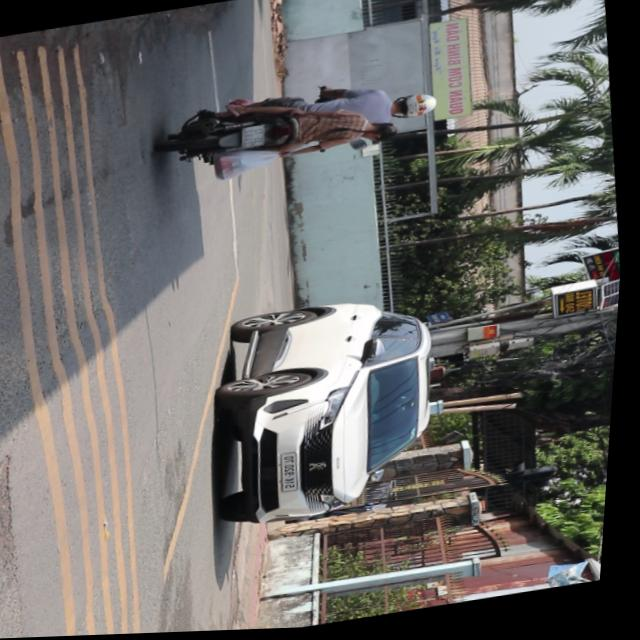helmet: (393, 94, 442, 124)
licenseplate: (153, 70, 447, 192)
motorcyclist: (360, 120, 403, 148)
nohelmet: (242, 127, 267, 150)
